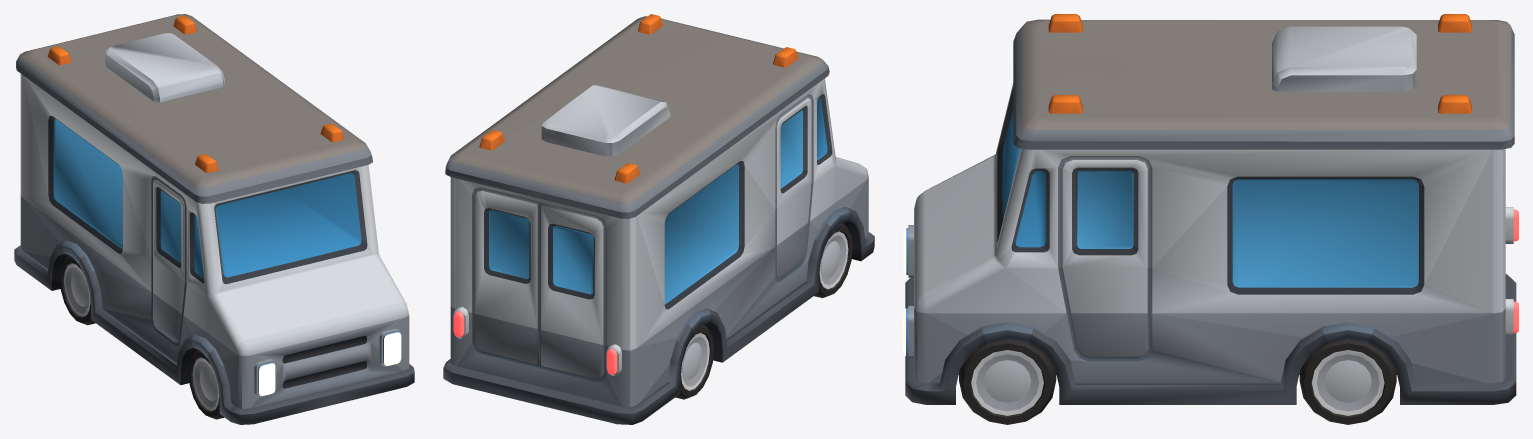
The model's file is van_pacote.glb.
3 renders of one model, left to right at view 1: azimuth 30°, elevation 25°; view 2: azimuth 150°, elevation 25°; view 3: azimuth 270°, elevation 25°, orthographic. The views are drawn at different scales.
Parts seen in each view (by area): view 1: van_pacote, roda_dianteira_esq, roda_traseira_esq; view 2: van_pacote, roda_traseira_esq, roda_dianteira_esq; view 3: van_pacote, roda_dianteira_dir, roda_traseira_dir.
Boxes of the visible parts, box(x1,y1,x2,y2) form: van_pacote: box(14, 14, 414, 424); roda_dianteira_esq: box(188, 350, 224, 419); roda_traseira_esq: box(59, 255, 95, 325); van_pacote: box(443, 14, 874, 424); roda_traseira_esq: box(675, 324, 714, 399); roda_dianteira_esq: box(814, 223, 852, 298); van_pacote: box(903, 14, 1518, 404); roda_dianteira_dir: box(959, 340, 1056, 424); roda_traseira_dir: box(1299, 340, 1396, 424).
Size of the model in its own units: 2.07 by 2.66 by 4.56.
4 materials, 1 textured.
